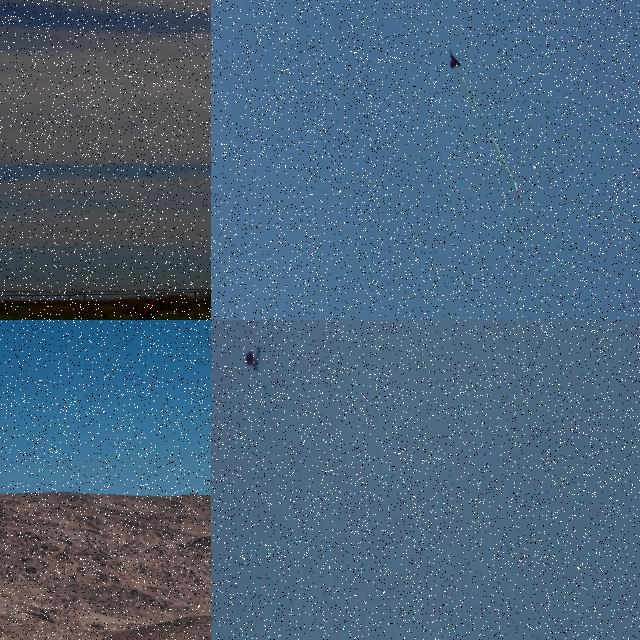Rocket: (515, 183, 521, 200)
